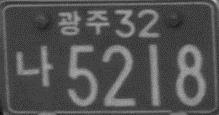1: (146, 42, 163, 107)
2: (101, 43, 138, 107), (136, 8, 160, 39)
3: (114, 8, 135, 38)
5: (66, 44, 98, 107)
8: (173, 43, 207, 107)
광주_O: (57, 9, 110, 36)
나: (14, 44, 54, 87)
